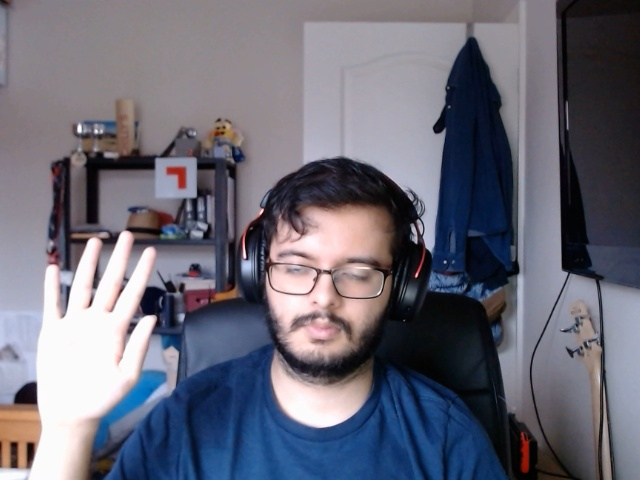Hello: (23, 222, 166, 441)
